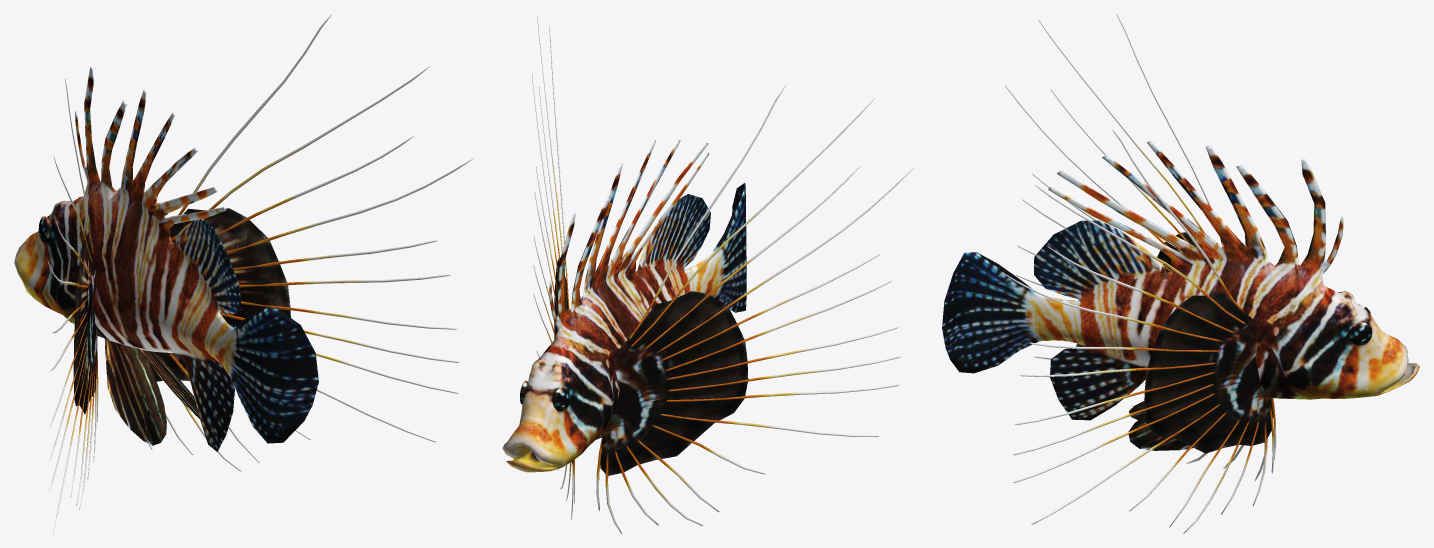
Rendered from Lionfish.dae.
The picture shows the model from 3 angles, left to right: view 1: azimuth 30°, elevation 25°; view 2: azimuth 150°, elevation 25°; view 3: azimuth 270°, elevation 25°; orthographic projection. The views are drawn at different scales.
Parts seen in each view (by area): view 1: Lionfish; view 2: Lionfish; view 3: Lionfish.
Part boxes in pixels (bbox=[...]): Lionfish: bbox=[14, 14, 473, 533]; Lionfish: bbox=[502, 15, 913, 533]; Lionfish: bbox=[942, 14, 1419, 533].
Bounding box in the file's own units: 28.69 × 31.03 × 30.62.
1 material, 1 textured.
